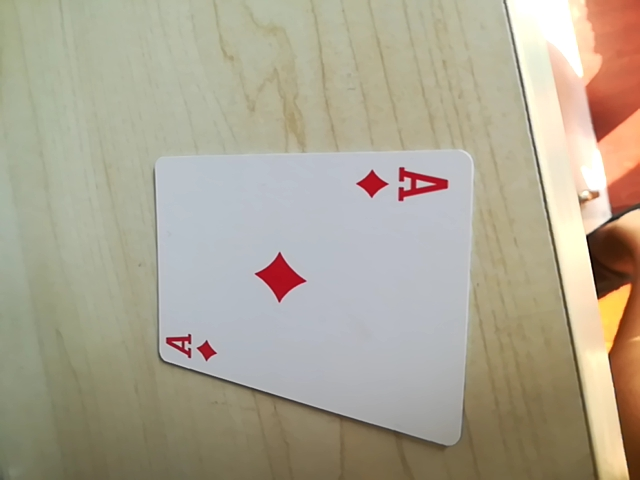fk a: (357, 162, 455, 207), (160, 326, 226, 367)
